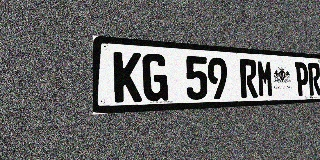5: (186, 56, 208, 100)
9: (207, 57, 228, 99)
G: (142, 53, 168, 102)
K: (114, 51, 142, 103)
M: (257, 60, 274, 97)
P: (295, 62, 309, 96)
R: (239, 59, 258, 98), (308, 63, 320, 96)
